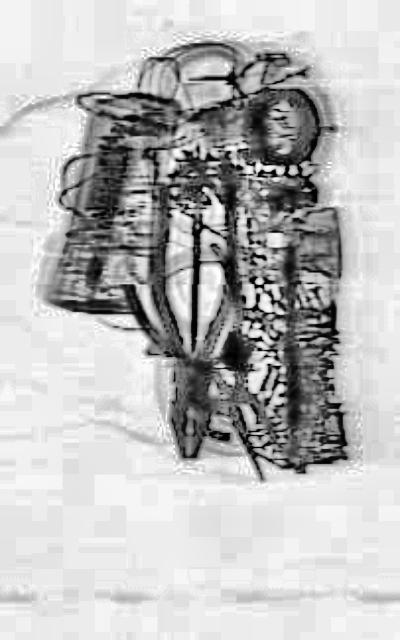Pliers: (120, 204, 312, 511), (140, 150, 238, 460)
